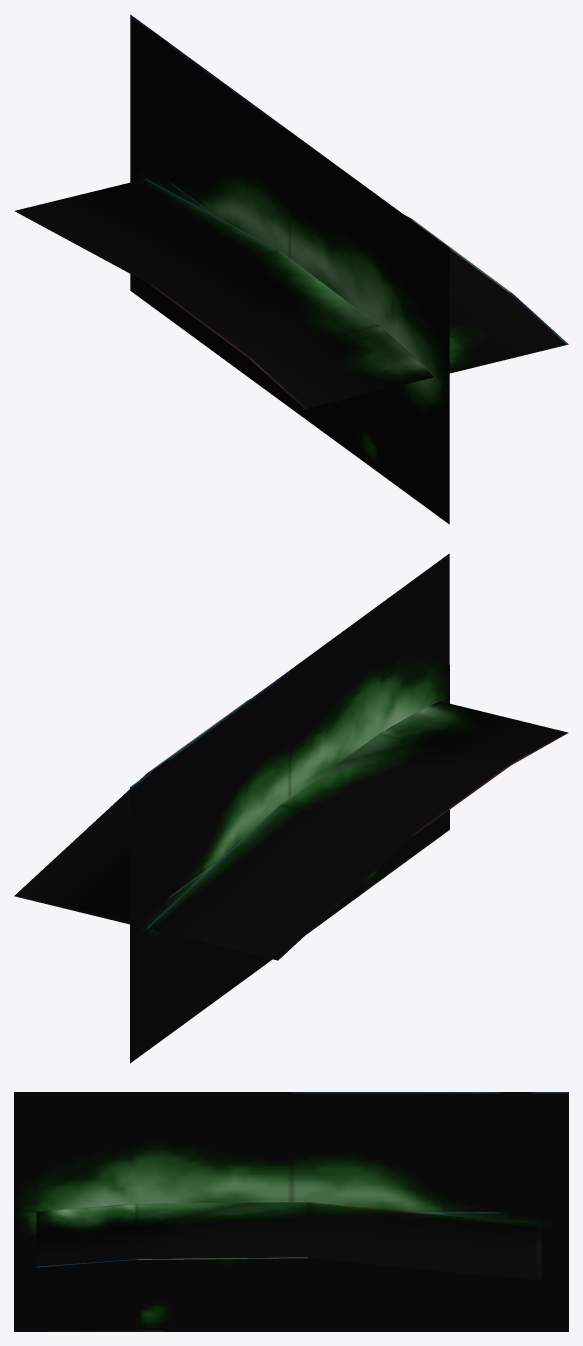
3 renders of one model, top to bottom at view 1: azimuth 30°, elevation 25°; view 2: azimuth 150°, elevation 25°; view 3: azimuth 270°, elevation 25°, orthographic. The views are drawn at different scales.
Parts seen in each view (by area): view 1: T1L5M004_8; view 2: T1L5M004_8; view 3: T1L5M004_8.
Boxes of the visible parts, bbox=[...] form: T1L5M004_8: bbox=[14, 14, 568, 524]; T1L5M004_8: bbox=[14, 553, 568, 1063]; T1L5M004_8: bbox=[14, 1092, 568, 1331].
Bounding box in the file's own units: 0.957 × 0.9541 × 2.
